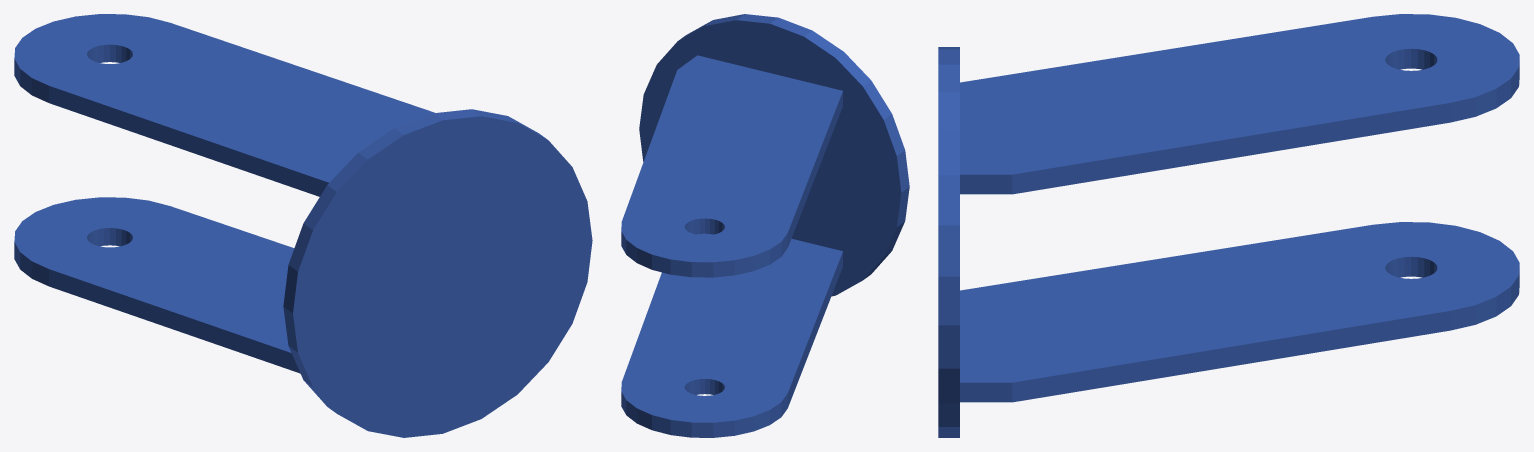
File: caster_wheel_link_Part_2_Part_2.obj
The picture shows the model from 3 angles, left to right: view 1: azimuth 30°, elevation 25°; view 2: azimuth 150°, elevation 25°; view 3: azimuth 270°, elevation 25°; orthographic projection. The views are drawn at different scales.
Size of the model in its own units: 0.1072 by 0.09 by 0.1334.
